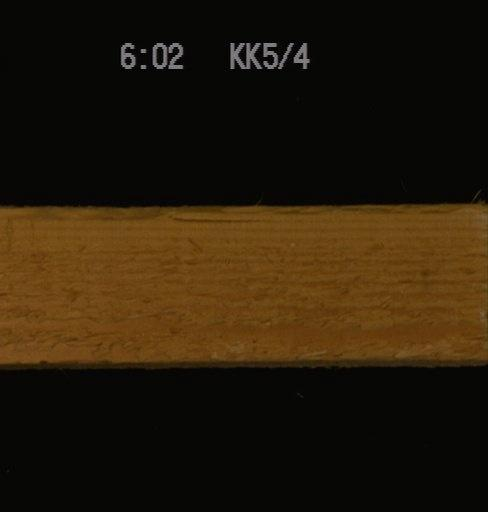wave: (0, 205, 288, 225)
